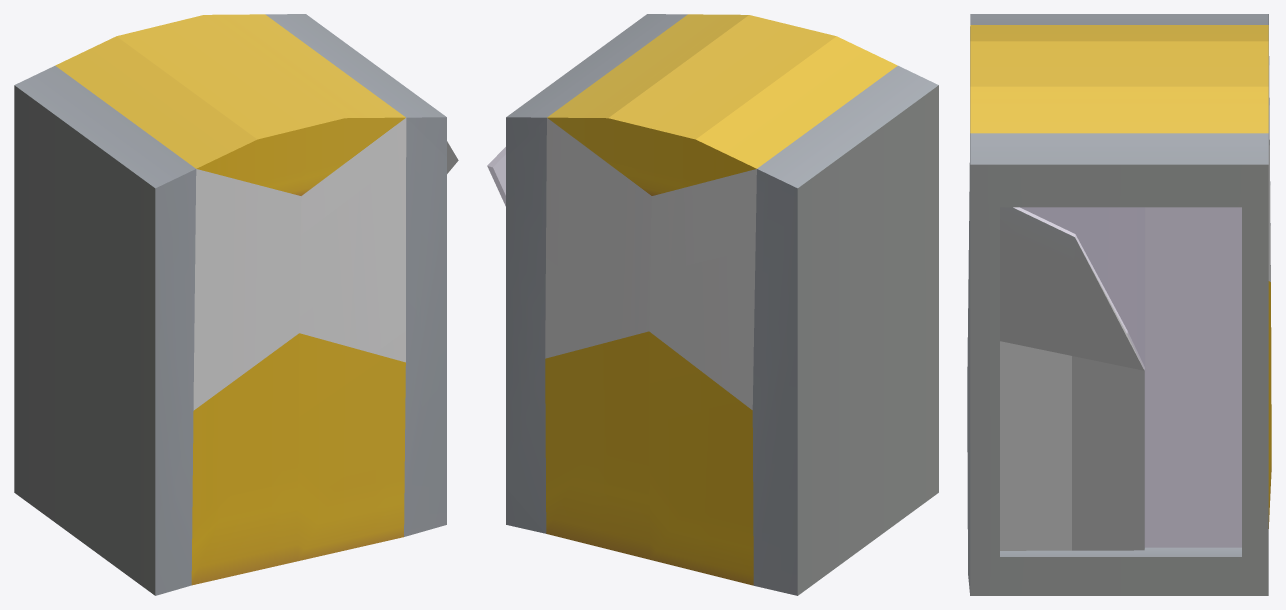
Rendered from NapkinHolder_Mesh.fbx.
3 views of the same model, side by side, from view 1: azimuth 30°, elevation 25°; view 2: azimuth 150°, elevation 25°; view 3: azimuth 270°, elevation 25° (orthographic). The views are drawn at different scales.
Parts seen in each view (by area): view 1: NapkinHolder_Mesh; view 2: NapkinHolder_Mesh; view 3: NapkinHolder_Mesh.
Boxes of the visible parts, bbox=[...] form: NapkinHolder_Mesh: bbox=[14, 14, 458, 595]; NapkinHolder_Mesh: bbox=[487, 14, 938, 595]; NapkinHolder_Mesh: bbox=[967, 14, 1271, 595].
Size of the model in its own units: 20.29 by 22.2 by 13.39.
1 material, 1 textured.
